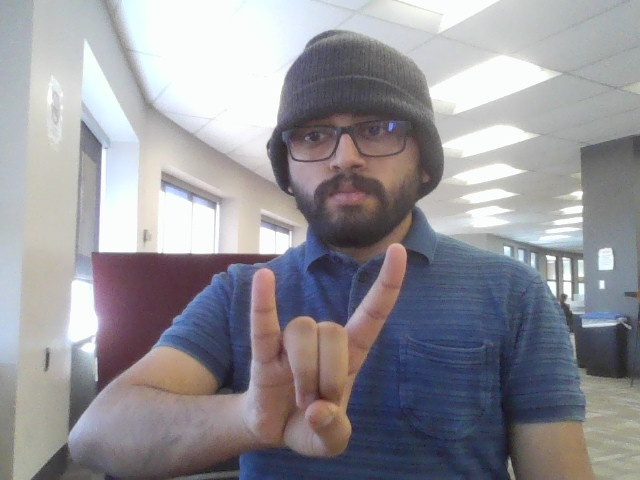help: (238, 238, 435, 470)
